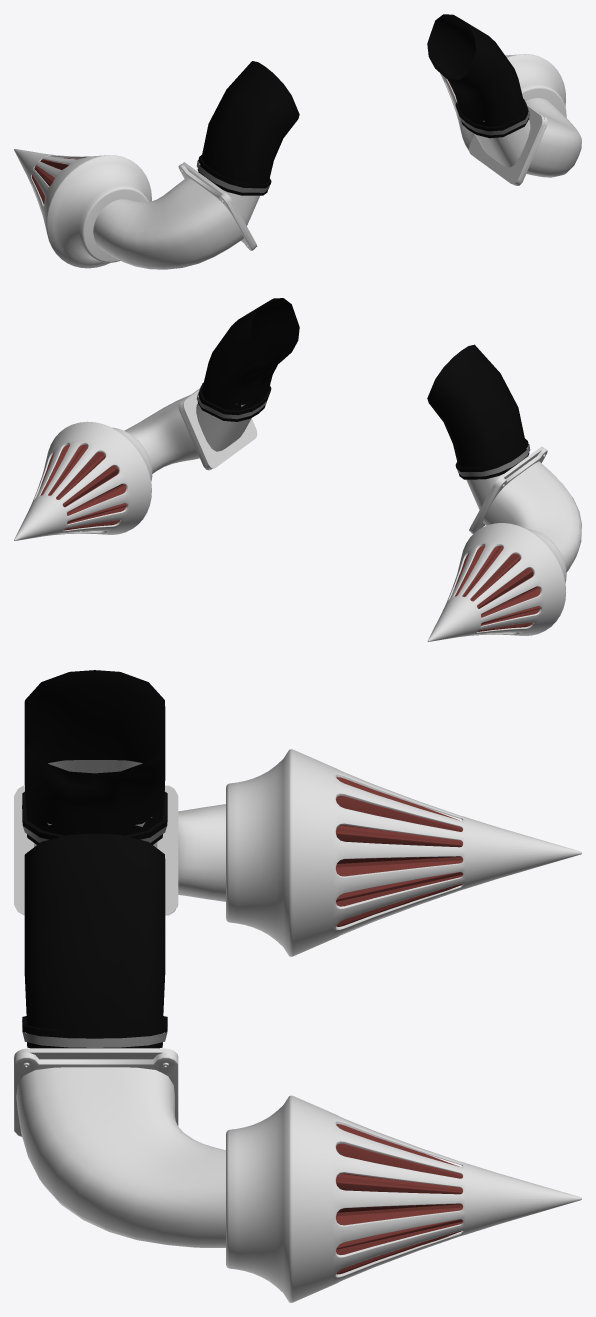
The model's file is Intake_SPIKE_CHR.glb.
The picture shows the model from 3 angles, top to bottom: view 1: azimuth 30°, elevation 25°; view 2: azimuth 150°, elevation 25°; view 3: azimuth 270°, elevation 25°; orthographic projection. The views are drawn at different scales.
Visible parts, largest first — view 1: Intake_SPIKE_CHR; view 2: Intake_SPIKE_CHR; view 3: Intake_SPIKE_CHR.
Part boxes in pixels (x1=…): Intake_SPIKE_CHR: x1=14, y1=14, x2=581, y2=269; Intake_SPIKE_CHR: x1=14, y1=298, x2=581, y2=641; Intake_SPIKE_CHR: x1=14, y1=670, x2=581, y2=1302.
Bounding box in the file's own units: 0.6159 × 0.2438 × 0.3407.
